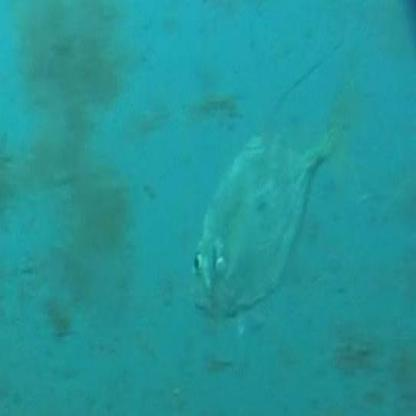jack: (189, 34, 365, 330)
